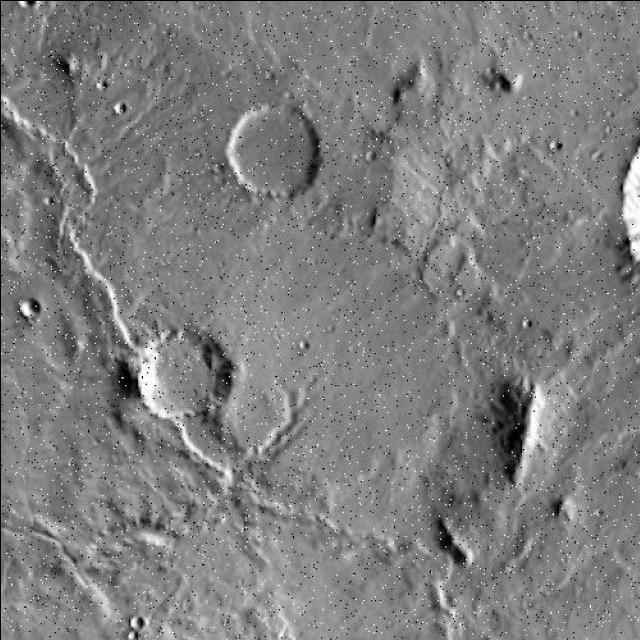crater: (495, 49, 640, 336), (444, 0, 640, 200), (205, 73, 336, 219), (546, 348, 640, 538), (572, 519, 640, 640), (324, 0, 429, 55), (225, 0, 339, 42), (594, 0, 640, 54), (22, 0, 86, 36), (595, 1, 640, 48), (605, 578, 639, 640), (596, 0, 640, 44), (618, 0, 640, 24)
